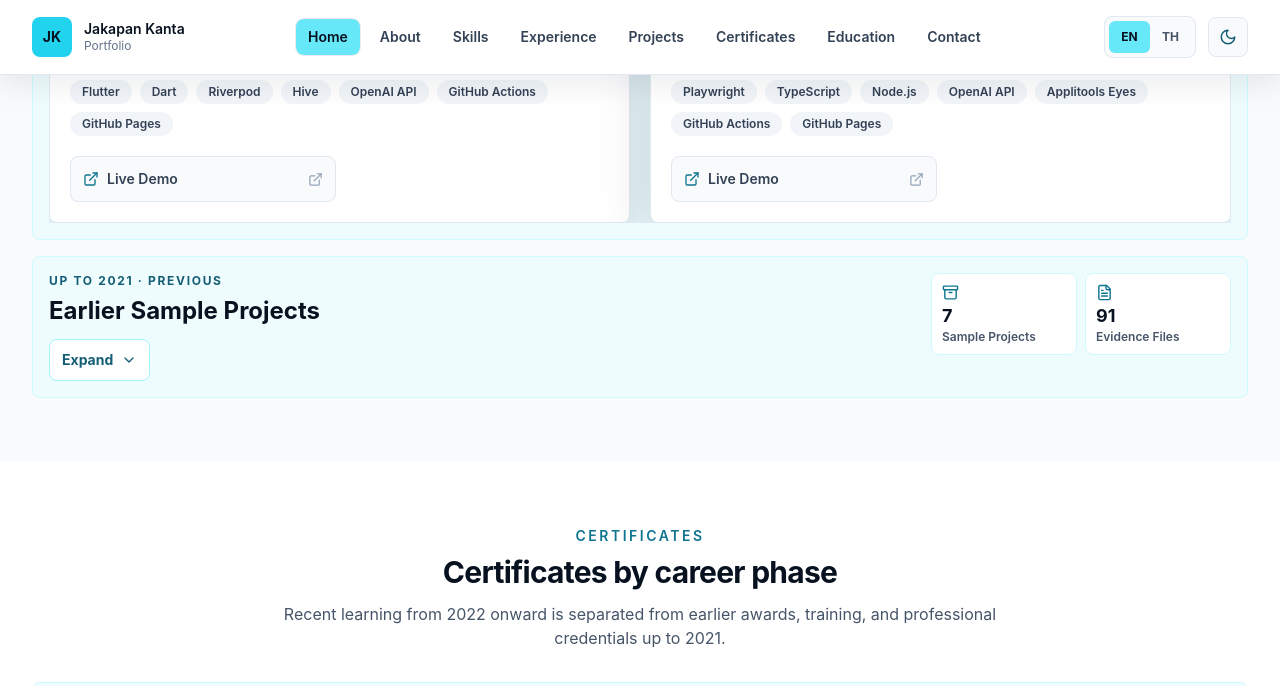
Test: App › links the Agentic AI team sharing presentation in earlier projects
(page scrolled)
Click the button "Expand" at (100, 360), box top-left (49, 339), bottom-right (150, 381)
(page scrolled)
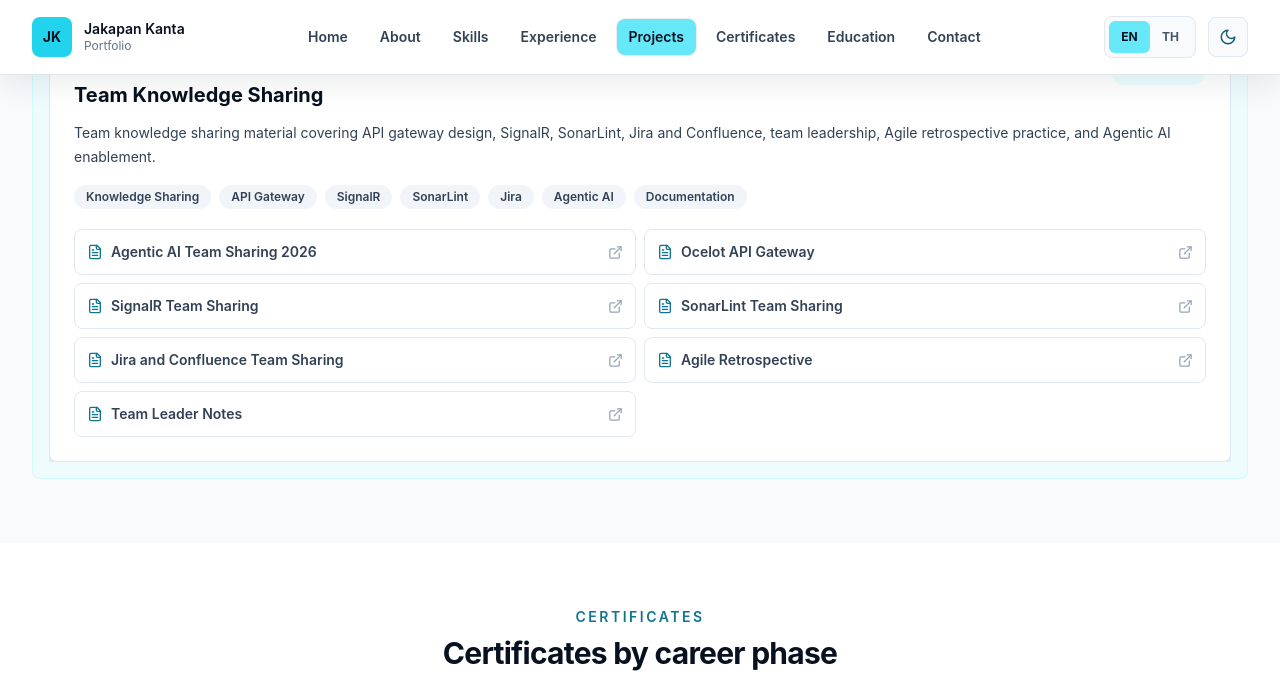
Now the heading "Team Knowledge Sharing" is shown, box top-left (74, 81), bottom-right (324, 109)
